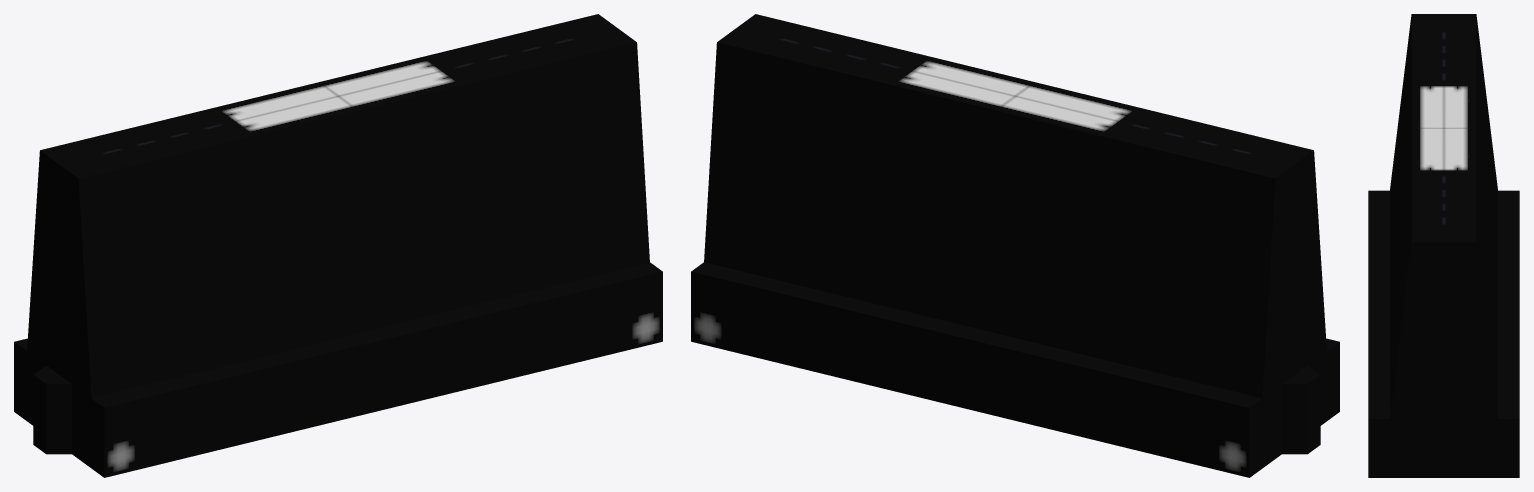
Rendered from Barricade.fbx.
The picture shows the model from 3 angles, left to right: view 1: azimuth 30°, elevation 25°; view 2: azimuth 150°, elevation 25°; view 3: azimuth 270°, elevation 25°; orthographic projection. The views are drawn at different scales.
Visible parts, largest first — view 1: Barricade; view 2: Barricade; view 3: Barricade.
Part boxes in pixels (<box>): Barricade: <box>14,14,662,477</box>; Barricade: <box>691,14,1339,477</box>; Barricade: <box>1368,14,1519,477</box>.
Bounding box in the file's own units: 25.87 × 12 × 7.
